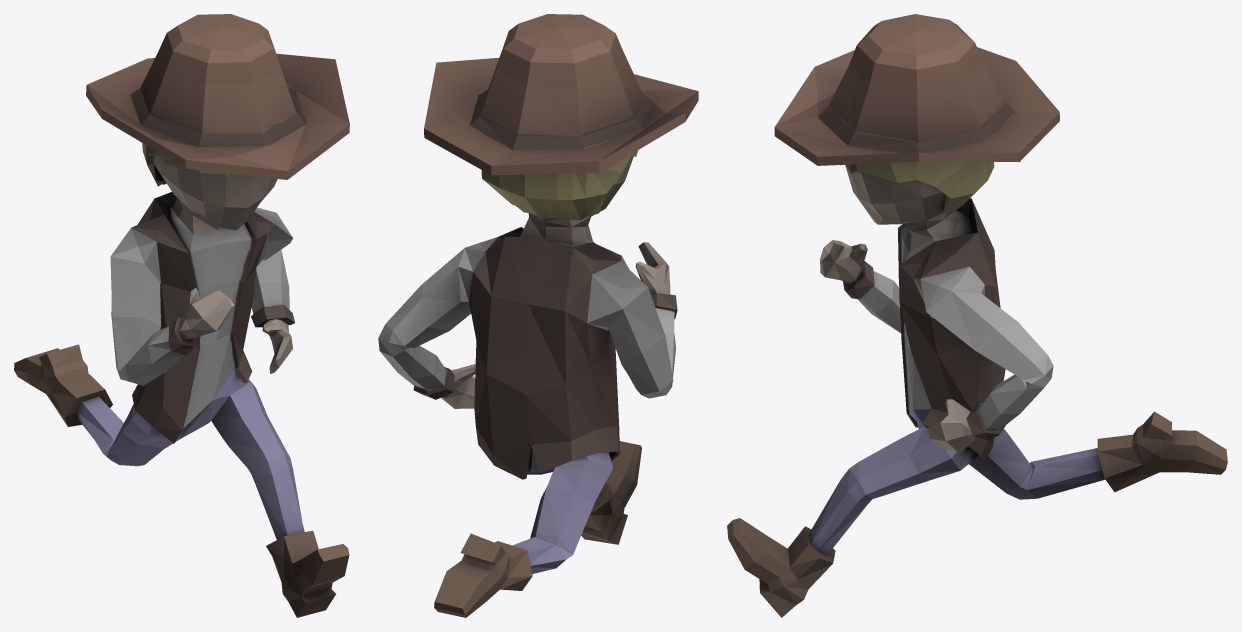
The model's file is char_1.obj.
3 views of the same model, side by side, from view 1: azimuth 30°, elevation 25°; view 2: azimuth 150°, elevation 25°; view 3: azimuth 270°, elevation 25° (orthographic). The views are drawn at different scales.
Parts seen in each view (by area): view 1: Cube; view 2: Cube; view 3: Cube.
Part boxes in pixels (bbox=[...]): Cube: bbox=[14, 14, 349, 617]; Cube: bbox=[378, 14, 698, 617]; Cube: bbox=[727, 14, 1227, 617].
Size of the model in its own units: 3.49 by 7.71 by 6.18.
Materials: 1 (1 with a texture image).
